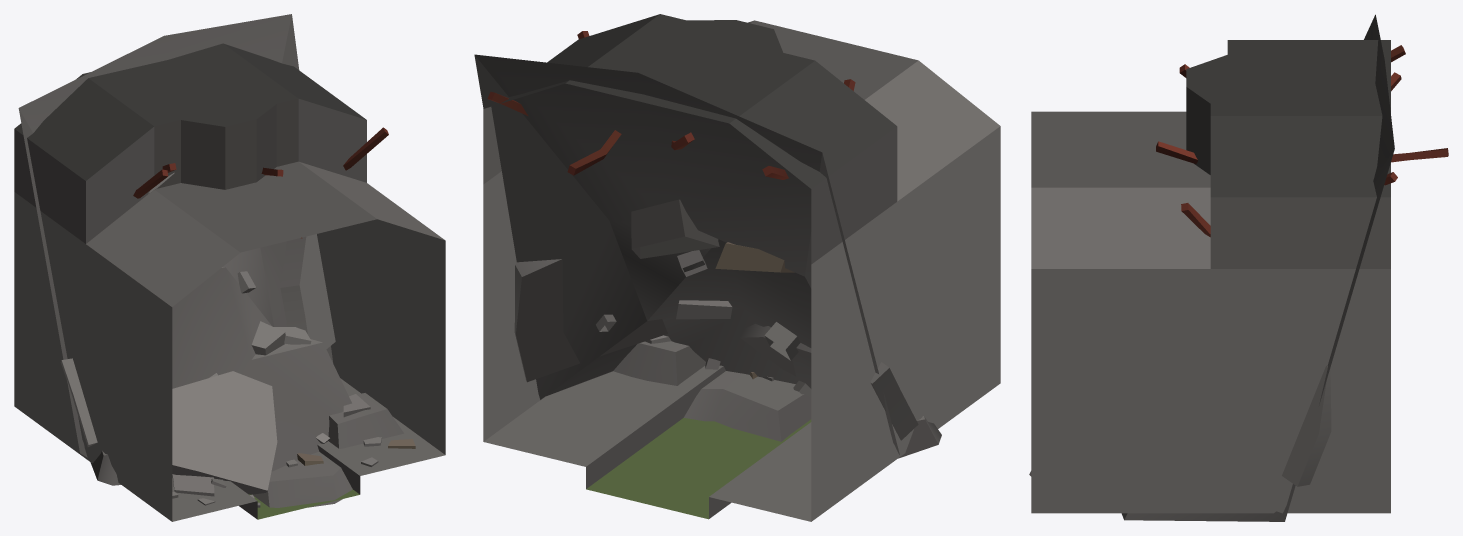
The model's file is AI_Env_Sewer_CavedIn_Section.fbx.
3 views of the same model, side by side, from view 1: azimuth 30°, elevation 25°; view 2: azimuth 150°, elevation 25°; view 3: azimuth 270°, elevation 25° (orthographic). The views are drawn at different scales.
Visible parts, largest first — view 1: AI_Env_Sewer_CavedIn_Section; view 2: AI_Env_Sewer_CavedIn_Section; view 3: AI_Env_Sewer_CavedIn_Section.
Part boxes in pixels (<box>): AI_Env_Sewer_CavedIn_Section: <box>14,14,445,521</box>; AI_Env_Sewer_CavedIn_Section: <box>474,14,1000,521</box>; AI_Env_Sewer_CavedIn_Section: <box>1029,14,1448,521</box>.
Bounding box in the file's own units: 5.42 × 6.31 × 5.83.
